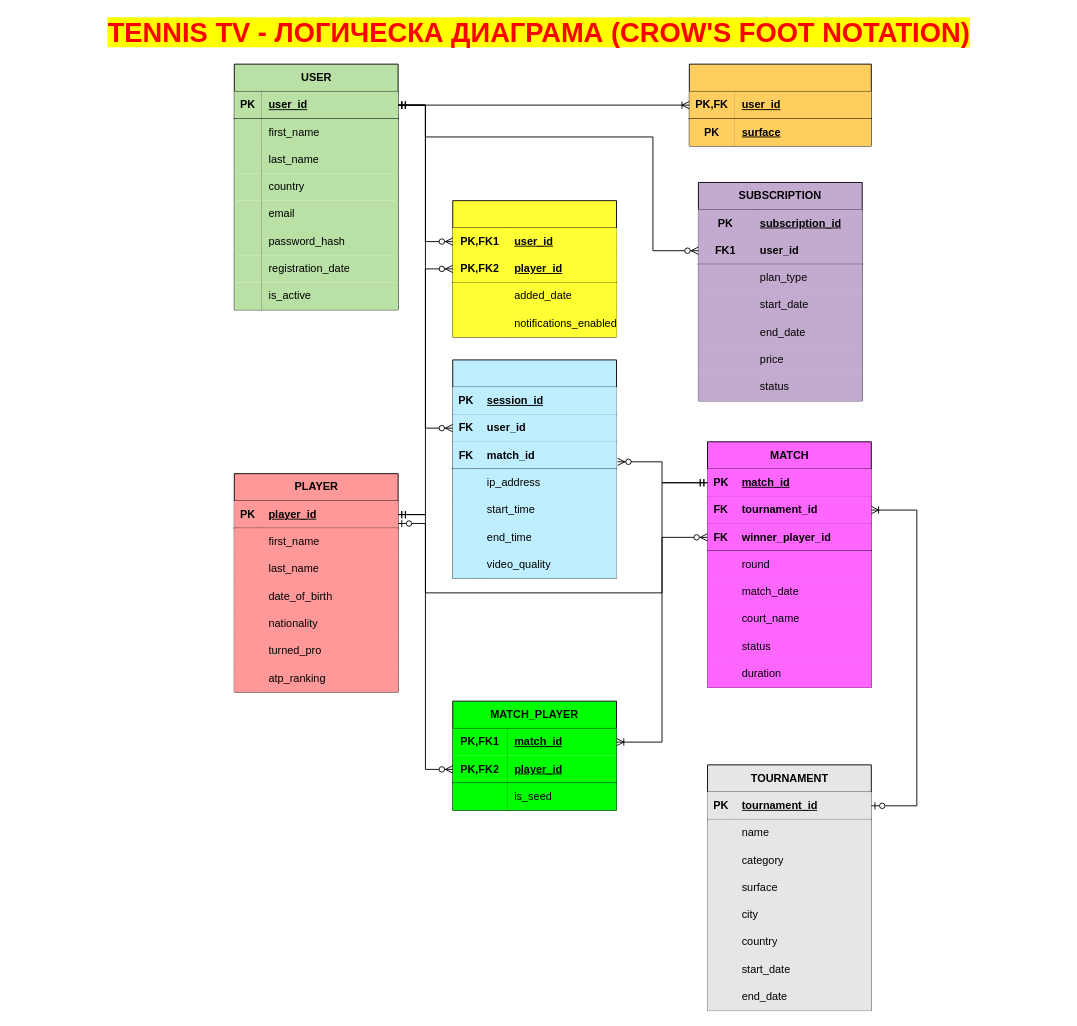
Image size: 1077x1026. Some labels were removed from this diagram. The box of each missing label's shape, as (x1, y1, x2, y2) in pixels:
STREAM_SESSION: (452, 359, 617, 578)
USER_FAVORITE_PLAYER: (452, 200, 617, 337)
USER_PREFERRED_SURFACE: (688, 63, 871, 146)
